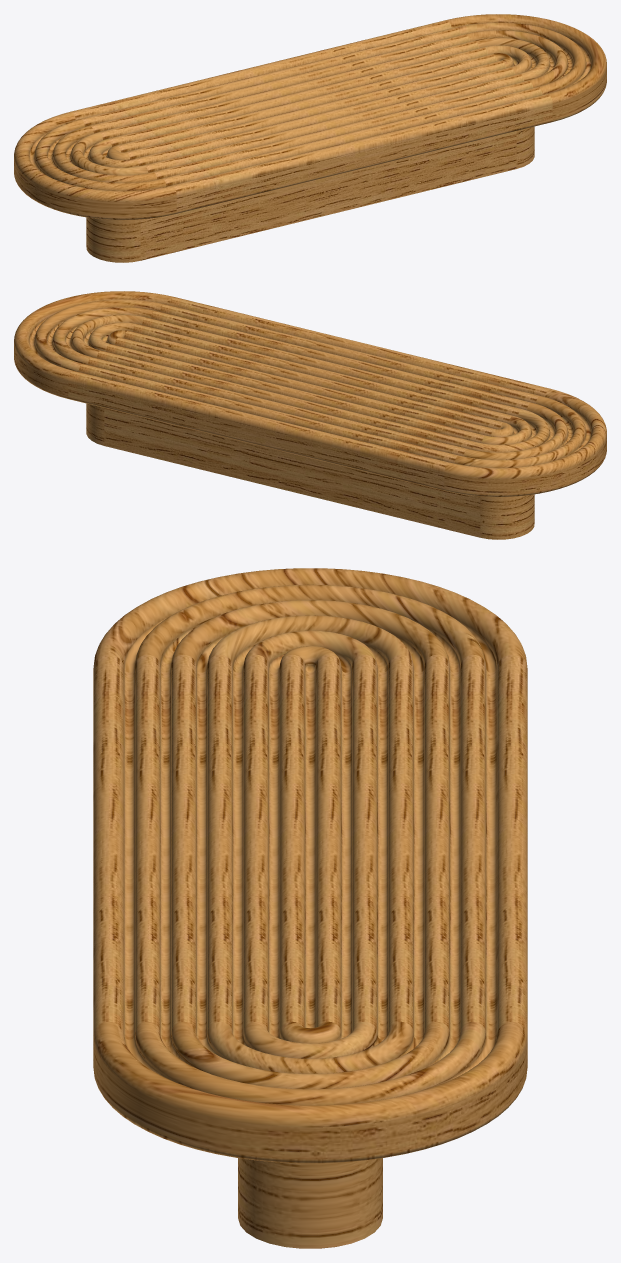
The picture shows the model from 3 angles, top to bottom: view 1: azimuth 30°, elevation 25°; view 2: azimuth 150°, elevation 25°; view 3: azimuth 270°, elevation 25°; orthographic projection. The views are drawn at different scales.
Parts seen in each view (by area): view 1: TMARA-P-01-006-R00 - ROMAN CIRCUS; view 2: TMARA-P-01-006-R00 - ROMAN CIRCUS; view 3: TMARA-P-01-006-R00 - ROMAN CIRCUS.
Boxes of the visible parts, x1,y1,x2,y2 form: TMARA-P-01-006-R00 - ROMAN CIRCUS: [14, 14, 606, 262]; TMARA-P-01-006-R00 - ROMAN CIRCUS: [14, 291, 606, 539]; TMARA-P-01-006-R00 - ROMAN CIRCUS: [93, 568, 527, 1248].
Size of the model in its own units: 0.18 by 0.03 by 0.06.
Materials: 1 (1 with a texture image).
